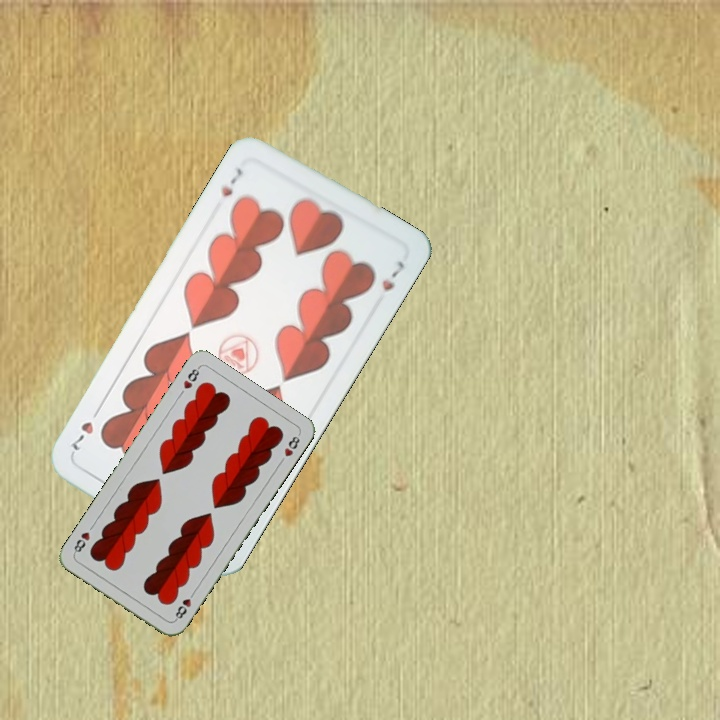H7: (216, 164, 246, 200)
H8: (171, 587, 198, 623), (175, 363, 202, 399)
